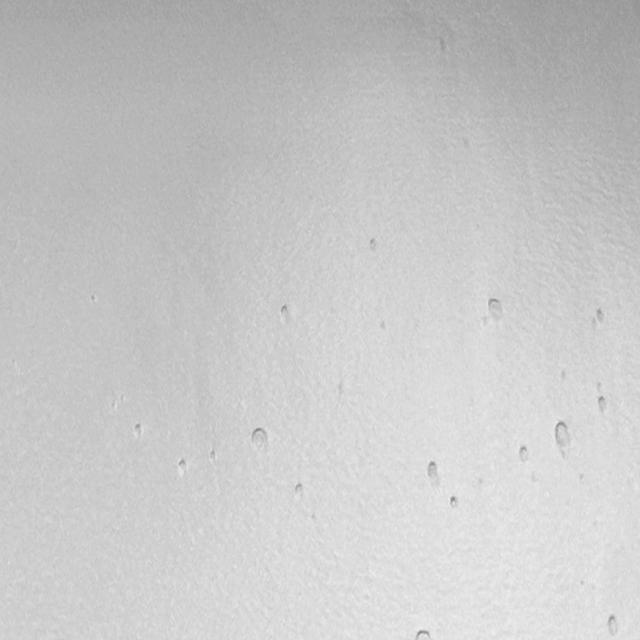pin holes: (551, 417, 576, 458), (482, 295, 506, 326), (247, 425, 270, 454), (603, 612, 625, 639), (422, 458, 442, 485), (276, 300, 294, 326), (592, 306, 611, 330), (596, 392, 614, 417), (446, 491, 465, 513), (131, 420, 148, 444), (516, 444, 533, 466), (367, 235, 384, 255), (293, 480, 309, 501), (176, 457, 190, 479), (560, 366, 571, 388), (413, 628, 434, 639), (336, 381, 346, 402), (207, 448, 220, 464), (476, 473, 486, 490), (88, 294, 100, 308), (379, 319, 389, 334), (530, 472, 538, 485)
